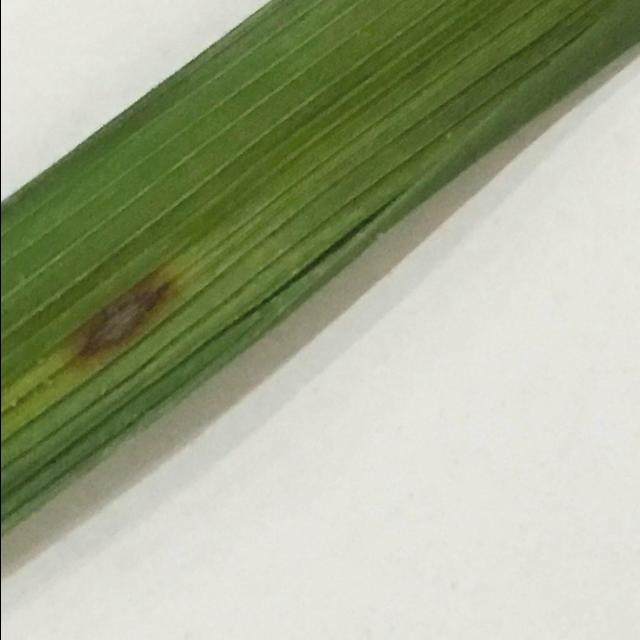Leaf_Blast: (34, 269, 188, 369)
